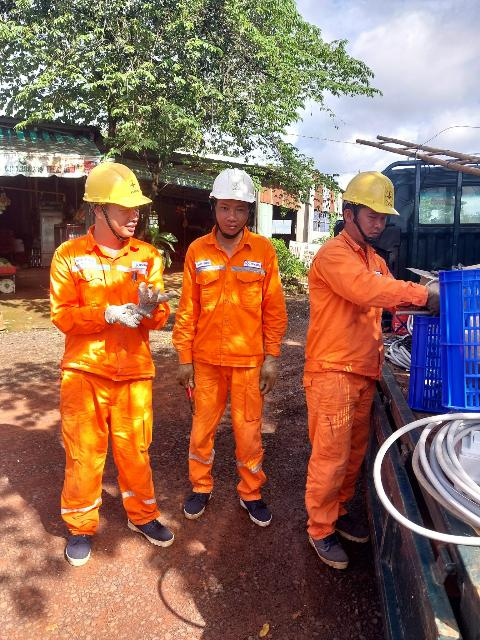gloves: (97, 300, 156, 337), (132, 277, 178, 311), (421, 284, 448, 323), (256, 348, 278, 391), (171, 359, 197, 389)
helmet: (66, 150, 169, 212), (340, 165, 408, 219), (211, 162, 269, 208)
shoes: (117, 514, 180, 552), (299, 530, 353, 571), (173, 477, 220, 524), (234, 490, 280, 534), (327, 513, 376, 552), (55, 527, 106, 561)
